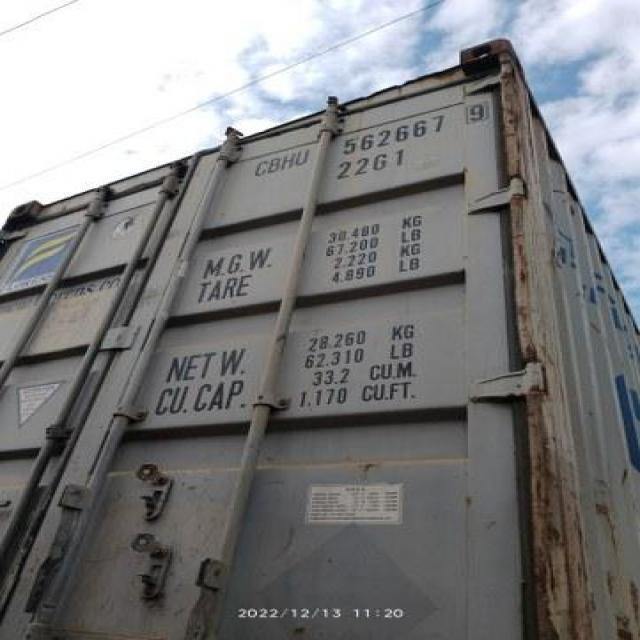container_number_h: (228, 98, 501, 189)
